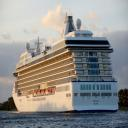cruises: (13, 15, 121, 115)
